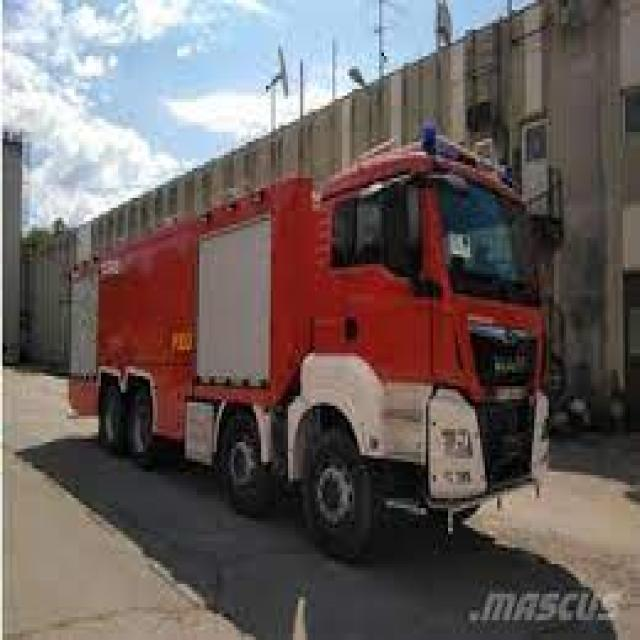pompier: (63, 129, 550, 556)
